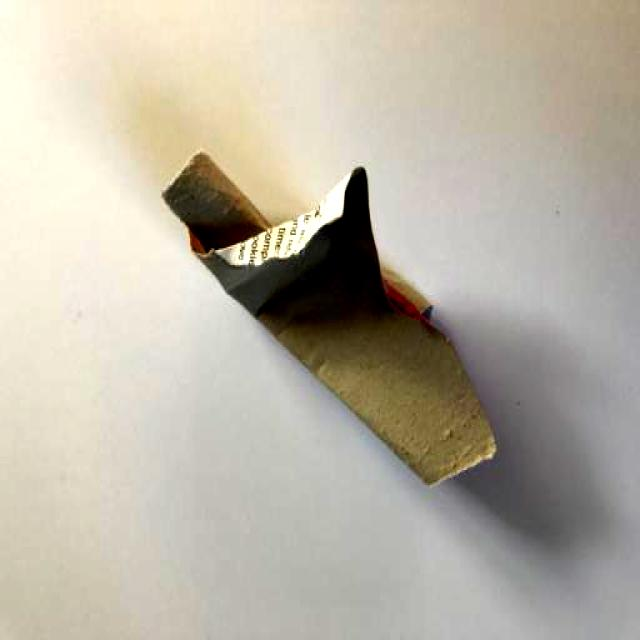Paper: (151, 140, 517, 516)
